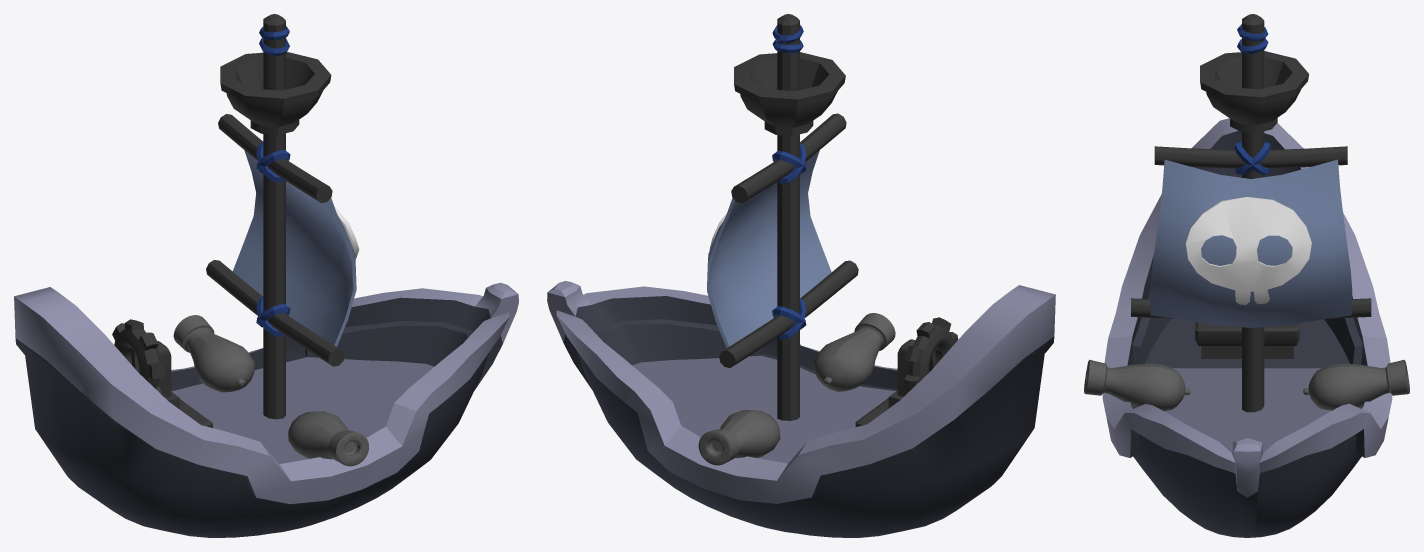
File: nave pirata grigia finale.fbx
3 views of the same model, side by side, from view 1: azimuth 30°, elevation 25°; view 2: azimuth 150°, elevation 25°; view 3: azimuth 270°, elevation 25° (orthographic). The views are drawn at different scales.
Parts seen in each view (by area): view 1: nave nemica; view 2: nave nemica; view 3: nave nemica.
Part boxes in pixels (bbox=[...]): nave nemica: bbox=[14, 14, 518, 537]; nave nemica: bbox=[547, 14, 1055, 537]; nave nemica: bbox=[1084, 14, 1409, 537].
Bounding box in the file's own units: 1323 × 1275 × 776.
